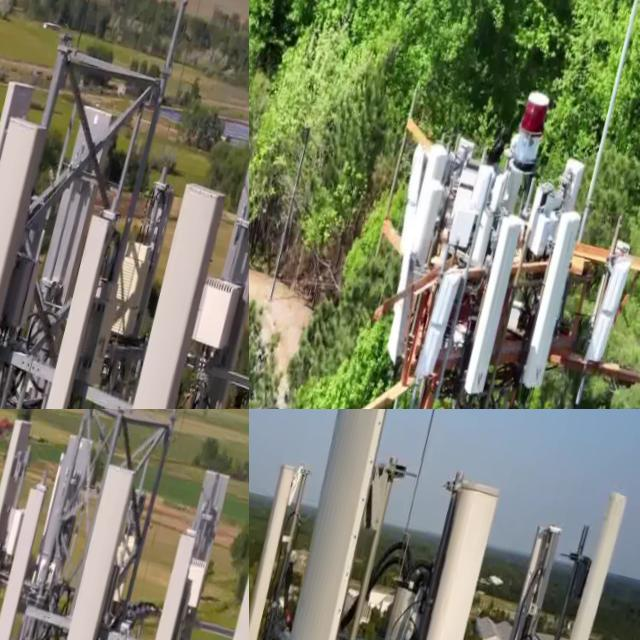GSM Antenna: (249, 409, 427, 640), (65, 176, 240, 409), (7, 87, 126, 369), (324, 463, 513, 640), (484, 467, 640, 640), (24, 441, 152, 640), (354, 128, 460, 366), (6, 217, 136, 409), (0, 96, 68, 409), (170, 151, 249, 409), (442, 208, 533, 409), (508, 209, 589, 407), (449, 516, 572, 640), (249, 455, 320, 640), (178, 499, 249, 640), (0, 474, 57, 640), (0, 416, 42, 640), (0, 67, 40, 295), (122, 528, 203, 640), (571, 252, 634, 390), (404, 267, 467, 389), (399, 170, 454, 274)
